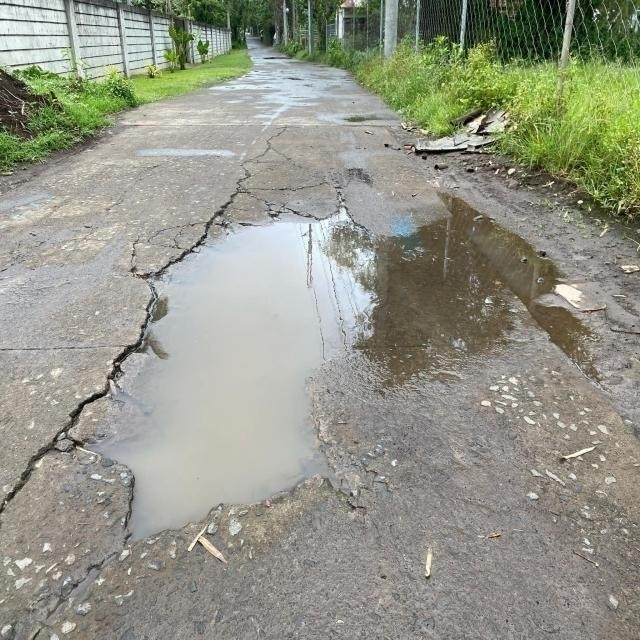pothole: (100, 177, 550, 574)
